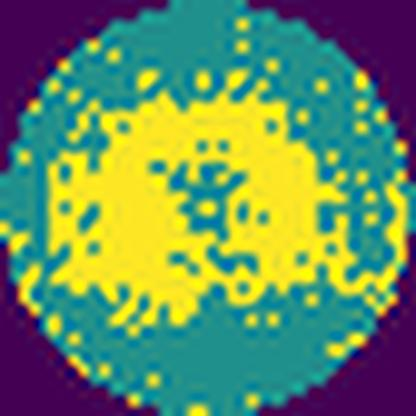Donut: (42, 89, 372, 330)
